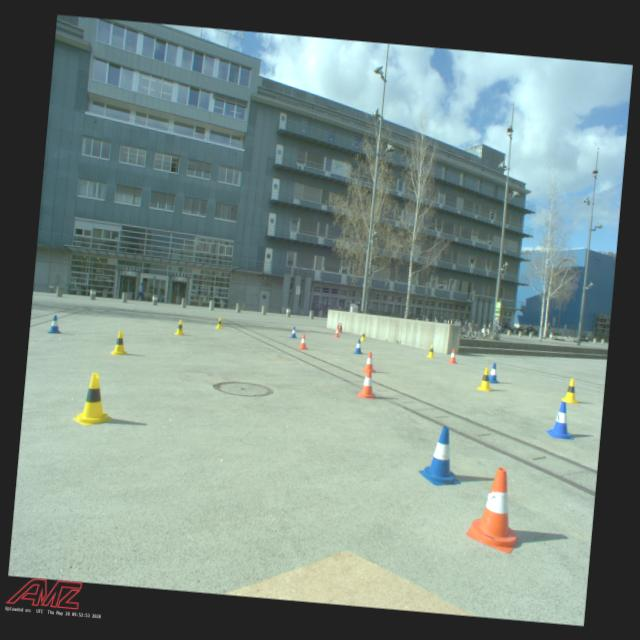blue_cone: (417, 424, 465, 488), (545, 400, 577, 440), (486, 362, 502, 384), (46, 314, 62, 334), (353, 338, 364, 354), (289, 326, 298, 338)
orange_cone: (464, 465, 525, 554), (356, 368, 378, 400), (361, 351, 377, 374), (297, 334, 309, 349), (447, 348, 458, 363), (333, 327, 341, 338)
yellow_cone: (71, 371, 116, 428), (560, 377, 581, 404), (110, 330, 130, 356), (476, 367, 494, 392), (174, 320, 186, 336), (426, 344, 436, 358), (215, 316, 224, 329), (359, 331, 367, 342)
